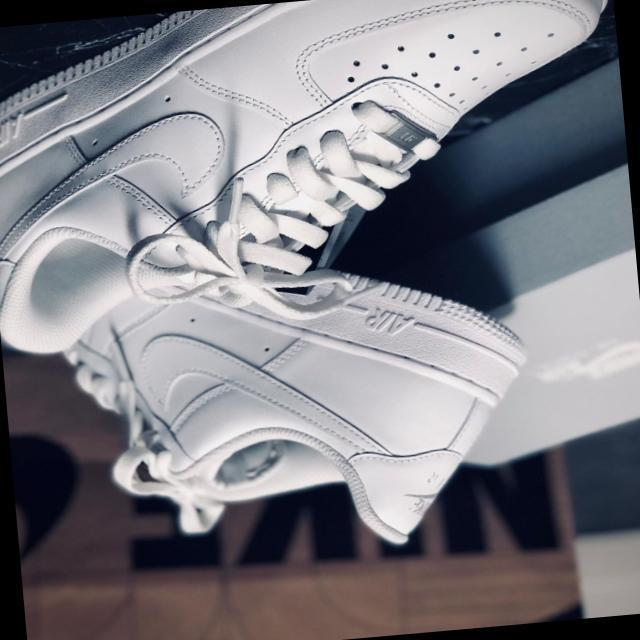nike original air force: (0, 0, 632, 341), (46, 184, 534, 568)
